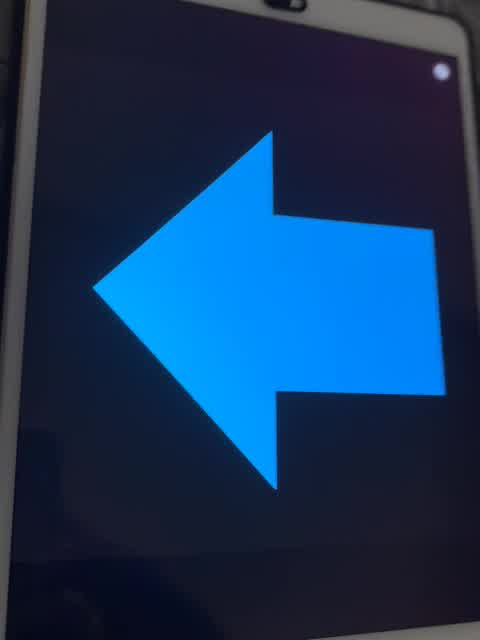left: (89, 115, 450, 497)
